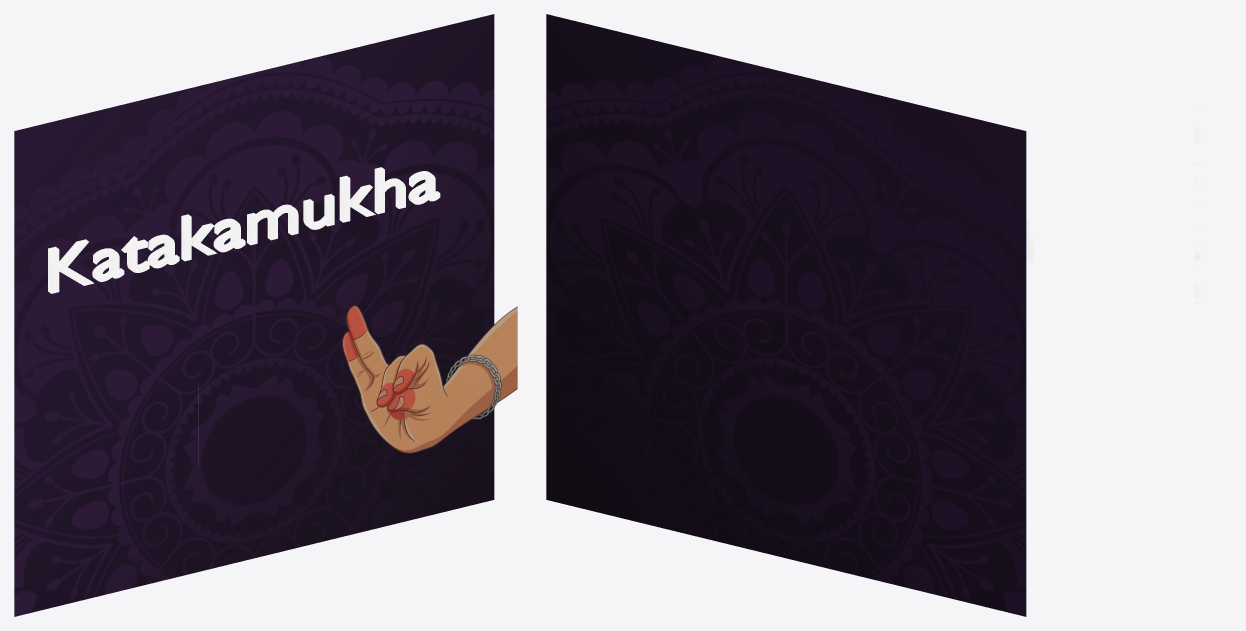
Rendered from Katakamukha.glb.
3 views of the same model, side by side, from view 1: azimuth 30°, elevation 25°; view 2: azimuth 150°, elevation 25°; view 3: azimuth 270°, elevation 25° (orthographic). The views are drawn at different scales.
Visible parts, largest first — view 1: Plane.022, Plane.023, Text.011; view 2: Plane.022; view 3: Text.011.
Boxes of the visible parts, left/top/right/bottom form: Plane.022: left=14, top=14, right=494, bottom=616; Plane.023: left=342, top=305, right=517, bottom=453; Text.011: left=48, top=167, right=440, bottom=293; Plane.022: left=546, top=14, right=1026, bottom=616; Text.011: left=1194, top=109, right=1200, bottom=303.
Bounding box in the file's own units: 2.48 × 2.4 × 0.8821.
3 materials, 2 textured.
